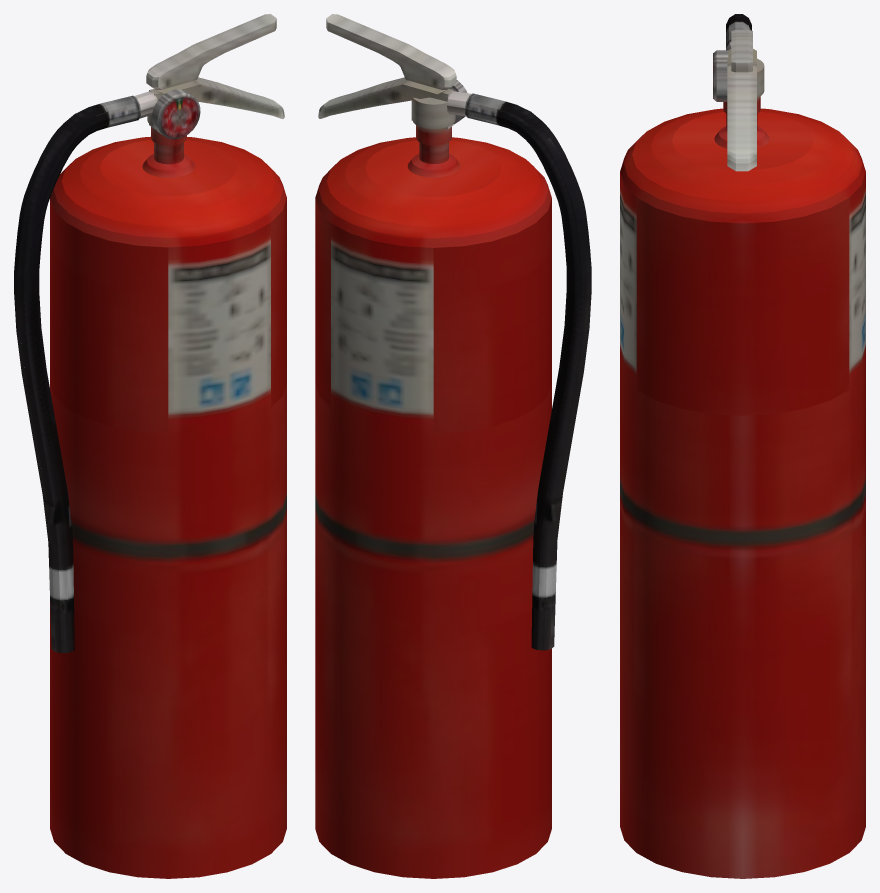
File: FireExtinguishr.gltf
3 renders of one model, left to right at view 1: azimuth 30°, elevation 25°; view 2: azimuth 150°, elevation 25°; view 3: azimuth 270°, elevation 25°, orthographic. The views are drawn at different scales.
Visible parts, largest first — view 1: node1; view 2: node1; view 3: node1.
Boxes of the visible parts, x1,y1,x2,y2 form: node1: [14, 14, 286, 878]; node1: [315, 14, 591, 878]; node1: [620, 14, 865, 878].
Size of the model in its own units: 0.2268 by 0.6377 by 0.1738.
